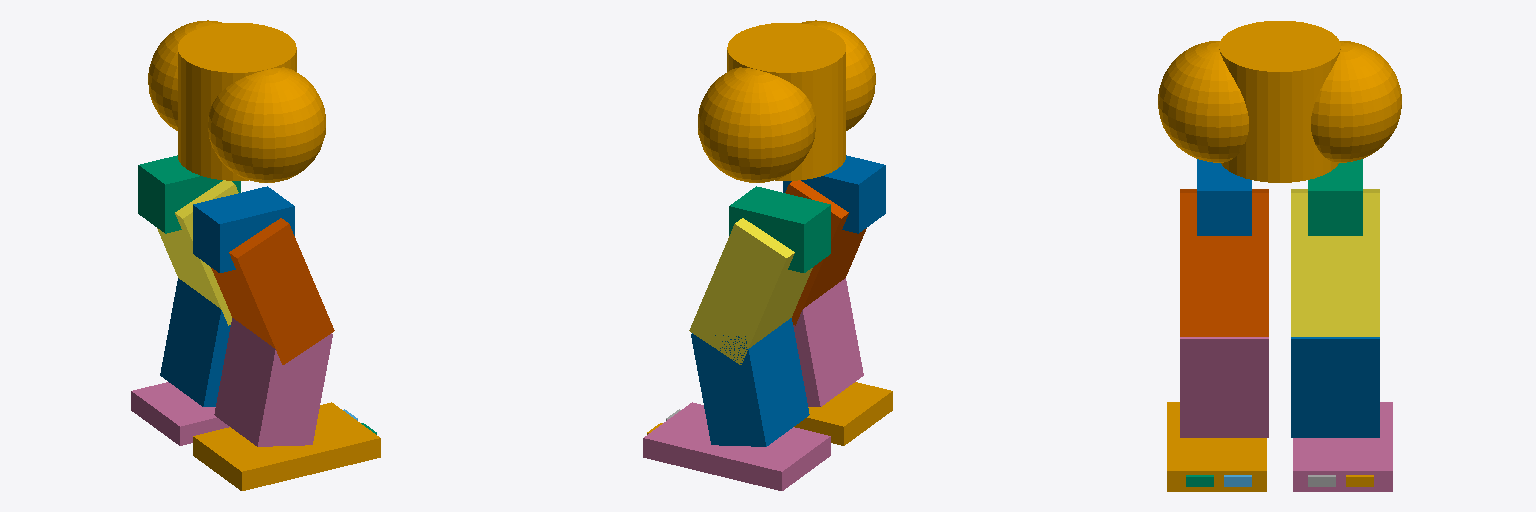
robot.urdf — [local-path]/Documents/Robotics-team-design/Meshes/Nao.urdf:
<?xml version="1.0"?>
<robot name="[local-path]/Documents/Robotics-team-design/Meshes/Nao.urdf" xmlns:xacro="http://ros.org/wiki/xacro">
  <link name="base_link">
    <visual>
      <origin xyz="0 0 0.02" rpy="0 0 0"/>
      <geometry>
        <cylinder radius="0.055" length="0.11"/>
      </geometry>
    </visual>
    <collision>
      <origin xyz="0 0 0.02" rpy="0 0 0"/>
      <geometry>
        <cylinder radius="0.055" length="0.11"/>
      </geometry>
    </collision>
    <visual>
      <origin xyz="0 0.055 0.02" rpy="0 0 0"/>
      <geometry>
        <sphere radius="0.055"/>
      </geometry>
    </visual>
    <collision>
      <origin xyz="0 0.055 0.02" rpy="0 0 0"/>
      <geometry>
        <sphere radius="0.055"/>
      </geometry>
    </collision>
    <visual>
      <origin xyz="0 -0.055 0.02" rpy="0 0 0"/>
      <geometry>
        <sphere radius="0.055"/>
      </geometry>
    </visual>
    <collision>
      <origin xyz="0 -0.055 0.02" rpy="0 0 0"/>
      <geometry>
        <sphere radius="0.055"/>
      </geometry>
    </collision>
  </link>
  <joint name="LHipYawPitch" type="revolute">
    <parent link="base_link"/>
    <child link="LHip"/>
    <axis xyz="0 0.707107 -0.707107"/>
    <limit effort="14.8" lower="-1.14529" upper="0.740718" velocity="4.16174"/>
    <origin xyz="0 0.05 -0.085" rpy="0 0 0"/>
  </joint>
  <link name="LHip">
  </link>
  <joint name="LHipRoll" type="revolute">
    <parent link="LHip"/>
    <child link="solid"/>
    <axis xyz="1 0 0"/>
    <limit effort="14.8" lower="-0.379435" upper="0.79046" velocity="4.16174"/>
    <origin xyz="0 0 0" rpy="0 0 0"/>
  </joint>
  <link name="solid">
    <visual>
      <origin xyz="-0.022 0 0" rpy="0 0 0"/>
      <geometry>
        <box size="0.08 0.05 0.05"/>
      </geometry>
    </visual>
    <collision>
      <origin xyz="-0.022 0 0" rpy="0 0 0"/>
      <geometry>
        <box size="0.08 0.05 0.05"/>
      </geometry>
    </collision>
  </link>
  <joint name="LHipPitch" type="revolute">
    <parent link="solid"/>
    <child link="solid_0"/>
    <axis xyz="0 1 0"/>
    <limit effort="9.8" lower="-1.77378" upper="0.48398" velocity="6.40239"/>
    <origin xyz="0 0 0" rpy="0 0 0"/>
  </joint>
  <link name="solid_0">
    <visual>
      <origin xyz="0 0 -0.055" rpy="0 -0.383185 0"/>
      <geometry>
        <box size="0.06 0.08 0.13"/>
      </geometry>
    </visual>
    <collision>
      <origin xyz="0 0 -0.055" rpy="0 -0.383185 0"/>
      <geometry>
        <box size="0.06 0.08 0.13"/>
      </geometry>
    </collision>
  </link>
  <joint name="LKneePitch" type="revolute">
    <parent link="solid_0"/>
    <child link="solid_1"/>
    <axis xyz="0 1 0"/>
    <limit effort="9.8" lower="-0.0923279" upper="2.11255" velocity="6.40239"/>
    <origin xyz="0 0 -0.1" rpy="0 0 0"/>
  </joint>
  <link name="solid_1">
    <visual>
      <origin xyz="0.01 0 -0.055" rpy="0 0.2 0"/>
      <geometry>
        <box size="0.06 0.08 0.11"/>
      </geometry>
    </visual>
    <collision>
      <origin xyz="0.01 0 -0.055" rpy="0 0.2 0"/>
      <geometry>
        <box size="0.06 0.08 0.11"/>
      </geometry>
    </collision>
  </link>
  <joint name="LAnklePitch" type="revolute">
    <parent link="solid_1"/>
    <child link="solid_2"/>
    <axis xyz="0 1 0"/>
    <limit effort="9.8" lower="-1.18944" upper="0.922581" velocity="6.40239"/>
    <origin xyz="0 0 -0.1029" rpy="0 0 0"/>
  </joint>
  <link name="solid_2">
  </link>
  <joint name="LAnkleRoll" type="revolute">
    <parent link="solid_2"/>
    <child link="solid_3"/>
    <axis xyz="1 0 0"/>
    <limit effort="14.8" lower="-0.39788" upper="0.769001" velocity="4.16174"/>
    <origin xyz="0 0 0" rpy="0.000001 0 0"/>
  </joint>
  <link name="solid_3">
    <visual>
      <origin xyz="0.02 0.007 -0.025" rpy="0 0 0"/>
      <geometry>
        <box size="0.148 0.09 0.02"/>
      </geometry>
    </visual>
    <collision>
      <origin xyz="0.02 0.007 -0.025" rpy="0 0 0"/>
      <geometry>
        <box size="0.148 0.09 0.02"/>
      </geometry>
    </collision>
  </link>
  <link name="LFoot/Bumper/Right">
    <visual>
      <origin xyz="0.0075 0 0" rpy="0 0 0"/>
      <geometry>
        <box size="0.005 0.025 0.01"/>
      </geometry>
    </visual>
    <collision>
      <origin xyz="0.0075 0 0" rpy="0 0 0"/>
      <geometry>
        <box size="0.005 0.025 0.01"/>
      </geometry>
    </collision>
  </link>
  <joint name="solid_3_LFoot/Bumper/Right_joint" type="fixed">
    <parent link="solid_3"/>
    <child link="LFoot/Bumper/Right"/>
    <origin xyz="0.09 -0.012 -0.023" rpy="0 0 0"/>
  </joint>
  <link name="LFoot/Bumper/Left">
    <visual>
      <origin xyz="0.0075 0 0" rpy="0 0 0"/>
      <geometry>
        <box size="0.005 0.025 0.01"/>
      </geometry>
    </visual>
    <collision>
      <origin xyz="0.0075 0 0" rpy="0 0 0"/>
      <geometry>
        <box size="0.005 0.025 0.01"/>
      </geometry>
    </collision>
  </link>
  <joint name="solid_3_LFoot/Bumper/Left_joint" type="fixed">
    <parent link="solid_3"/>
    <child link="LFoot/Bumper/Left"/>
    <origin xyz="0.09 0.022 -0.023" rpy="0 0 0"/>
  </joint>
  <link name="LFoot/Led">
  </link>
  <joint name="solid_3_LFoot/Led_joint" type="fixed">
    <parent link="solid_3"/>
    <child link="LFoot/Led"/>
    <origin xyz="0 0 0" rpy="0 0 0"/>
  </joint>
  <link name="LFsr">
  </link>
  <joint name="solid_3_LFsr_joint" type="fixed">
    <parent link="solid_3"/>
    <child link="LFsr"/>
    <origin xyz="0.020001 0.006999 -0.040755" rpy="0 -0.000004 -3.141585"/>
  </joint>
  <joint name="RHipYawPitch" type="revolute">
    <parent link="base_link"/>
    <child link="RHip"/>
    <axis xyz="0 0.707107 0.707107"/>
    <limit effort="14.8" lower="-1.14529" upper="0.740718" velocity="4.16174"/>
    <origin xyz="0 -0.05 -0.085" rpy="0 0 0"/>
  </joint>
  <link name="RHip">
  </link>
  <joint name="RHipRoll" type="revolute">
    <parent link="RHip"/>
    <child link="solid_4"/>
    <axis xyz="1 0 0"/>
    <limit effort="14.8" lower="-0.738274" upper="0.449597" velocity="4.16174"/>
    <origin xyz="0 0 0" rpy="0 0 0"/>
  </joint>
  <link name="solid_4">
    <visual>
      <origin xyz="-0.022 0 0" rpy="0 0 0"/>
      <geometry>
        <box size="0.08 0.05 0.05"/>
      </geometry>
    </visual>
    <collision>
      <origin xyz="-0.022 0 0" rpy="0 0 0"/>
      <geometry>
        <box size="0.08 0.05 0.05"/>
      </geometry>
    </collision>
  </link>
  <joint name="RHipPitch" type="revolute">
    <parent link="solid_4"/>
    <child link="solid_5"/>
    <axis xyz="0 1 0"/>
    <limit effort="9.8" lower="-1.77378" upper="0.48398" velocity="6.40239"/>
    <origin xyz="0 0 0" rpy="0 0 0"/>
  </joint>
  <link name="solid_5">
    <visual>
      <origin xyz="0 0 -0.055" rpy="0 -0.383185 0"/>
      <geometry>
        <box size="0.06 0.08 0.13"/>
      </geometry>
    </visual>
    <collision>
      <origin xyz="0 0 -0.055" rpy="0 -0.383185 0"/>
      <geometry>
        <box size="0.06 0.08 0.13"/>
      </geometry>
    </collision>
  </link>
  <joint name="RKneePitch" type="revolute">
    <parent link="solid_5"/>
    <child link="solid_6"/>
    <axis xyz="0 1 0"/>
    <limit effort="9.8" lower="-0.0923279" upper="2.11255" velocity="6.40239"/>
    <origin xyz="0 0 -0.1" rpy="0 0 0"/>
  </joint>
  <link name="solid_6">
    <visual>
      <origin xyz="0.01 0 -0.055" rpy="0 0.2 0"/>
      <geometry>
        <box size="0.06 0.08 0.11"/>
      </geometry>
    </visual>
    <collision>
      <origin xyz="0.01 0 -0.055" rpy="0 0.2 0"/>
      <geometry>
        <box size="0.06 0.08 0.11"/>
      </geometry>
    </collision>
  </link>
  <joint name="RAnklePitch" type="revolute">
    <parent link="solid_6"/>
    <child link="solid_7"/>
    <axis xyz="0 1 0"/>
    <limit effort="9.8" lower="-1.1863" upper="0.932006" velocity="6.40239"/>
    <origin xyz="0 0 -0.1029" rpy="0 0 0"/>
  </joint>
  <link name="solid_7">
  </link>
  <joint name="RAnkleRoll" type="revolute">
    <parent link="solid_7"/>
    <child link="solid_8"/>
    <axis xyz="1 0 0"/>
    <limit effort="14.8" lower="-0.768992" upper="0.397935" velocity="4.16174"/>
    <origin xyz="0 0 0" rpy="0 0 0"/>
  </joint>
  <link name="solid_8">
    <visual>
      <origin xyz="0.02 -0.007 -0.025" rpy="0 0 0"/>
      <geometry>
        <box size="0.148 0.09 0.02"/>
      </geometry>
    </visual>
    <collision>
      <origin xyz="0.02 -0.007 -0.025" rpy="0 0 0"/>
      <geometry>
        <box size="0.148 0.09 0.02"/>
      </geometry>
    </collision>
  </link>
  <link name="RFoot/Bumper/Left">
    <visual>
      <origin xyz="0.0075 0 0" rpy="0 0 0"/>
      <geometry>
        <box size="0.005 0.025 0.01"/>
      </geometry>
    </visual>
    <collision>
      <origin xyz="0.0075 0 0" rpy="0 0 0"/>
      <geometry>
        <box size="0.005 0.025 0.01"/>
      </geometry>
    </collision>
  </link>
  <joint name="solid_8_RFoot/Bumper/Left_joint" type="fixed">
    <parent link="solid_8"/>
    <child link="RFoot/Bumper/Left"/>
    <origin xyz="0.09 0.012 -0.023" rpy="0 0 0"/>
  </joint>
  <link name="RFoot/Bumper/Right">
    <visual>
      <origin xyz="0.0075 0 0" rpy="0 0 0"/>
      <geometry>
        <box size="0.005 0.025 0.01"/>
      </geometry>
    </visual>
    <collision>
      <origin xyz="0.0075 0 0" rpy="0 0 0"/>
      <geometry>
        <box size="0.005 0.025 0.01"/>
      </geometry>
    </collision>
  </link>
  <joint name="solid_8_RFoot/Bumper/Right_joint" type="fixed">
    <parent link="solid_8"/>
    <child link="RFoot/Bumper/Right"/>
    <origin xyz="0.09 -0.022 -0.023" rpy="0 0 0"/>
  </joint>
  <link name="RFoot/Led">
  </link>
  <joint name="solid_8_RFoot/Led_joint" type="fixed">
    <parent link="solid_8"/>
    <child link="RFoot/Led"/>
    <origin xyz="0 0 0" rpy="0 0 0"/>
  </joint>
  <link name="RFsr">
  </link>
  <joint name="solid_8_RFsr_joint" type="fixed">
    <parent link="solid_8"/>
    <child link="RFsr"/>
    <origin xyz="0.020001 -0.007001 -0.040762" rpy="0 -0.000004 -3.141585"/>
  </joint>
  <link name="Sonar/Left">
  </link>
  <joint name="base_link_Sonar/Left_joint" type="fixed">
    <parent link="base_link"/>
    <child link="Sonar/Left"/>
    <origin xyz="0.0477 0.0416 0.0509" rpy="0.112752 0.23678 0.449726"/>
  </joint>
  <link name="Sonar/Right">
  </link>
  <joint name="base_link_Sonar/Right_joint" type="fixed">
    <parent link="base_link"/>
    <child link="Sonar/Right"/>
    <origin xyz="0.0477 -0.0416 0.0509" rpy="-0.112752 0.23678 -0.449726"/>
  </joint>
  <link name="inertial unit">
  </link>
  <joint name="base_link_inertial unit_joint" type="fixed">
    <parent link="base_link"/>
    <child link="inertial unit"/>
    <origin xyz="-0.008 0.006 0.029" rpy="1.5708 0 0"/>
  </joint>
  <link name="gyro">
  </link>
  <joint name="base_link_gyro_joint" type="fixed">
    <parent link="base_link"/>
    <child link="gyro"/>
    <origin xyz="-0.008 0.006 0.029" rpy="0 0 0"/>
  </joint>
  <link name="accelerometer">
  </link>
  <joint name="base_link_accelerometer_joint" type="fixed">
    <parent link="base_link"/>
    <child link="accelerometer"/>
    <origin xyz="-0.008 0.00606 0.027" rpy="3.14159 0 0"/>
  </joint>
  <link name="super_emitter">
  </link>
  <joint name="base_link_super_emitter_joint" type="fixed">
    <parent link="base_link"/>
    <child link="super_emitter"/>
    <origin xyz="0 0 0" rpy="0 0 0"/>
  </joint>
  <link name="emitter">
  </link>
  <joint name="base_link_emitter_joint" type="fixed">
    <parent link="base_link"/>
    <child link="emitter"/>
    <origin xyz="0 0 0" rpy="0 0 0"/>
  </joint>
  <link name="receiver">
  </link>
  <joint name="base_link_receiver_joint" type="fixed">
    <parent link="base_link"/>
    <child link="receiver"/>
    <origin xyz="0 0 0" rpy="0 0 0"/>
  </joint>
  <link name="gps">
  </link>
  <joint name="base_link_gps_joint" type="fixed">
    <parent link="base_link"/>
    <child link="gps"/>
    <origin xyz="0 0 0" rpy="0 0 0"/>
  </joint>
  <link name="ChestBoard/Led">
  </link>
  <joint name="base_link_ChestBoard/Led_joint" type="fixed">
    <parent link="base_link"/>
    <child link="ChestBoard/Led"/>
    <origin xyz="0.053 0 0.058" rpy="0 0 0"/>
  </joint>
</robot>

--- What the picture shows (computed from the rendered views, not written in the file) ---
3 views of the same robot in one strip: view 1: azimuth 30°, elevation 25°; view 2: azimuth 150°, elevation 25°; view 3: azimuth 270°, elevation 25° (orthographic).
Robot: [local-path]/Documents/Robotics-team-design/Meshes/Nao.urdf — 31 links, 30 joints (12 revolute, 18 fixed); root link base_link; default pose: all joints at 0.
Links seen in each view (by area): view 1: base_link, solid_6, solid_5, solid_8, solid_1, solid_4, solid, solid_3, solid_0; view 2: base_link, solid_1, solid_0, solid_3, solid_6, solid, solid_4, solid_8, solid_5; view 3: base_link, solid_0, solid_5, solid_1, solid_6, solid_3, solid_8, solid, solid_4.
Boxes of the visible links, left/top/right/bottom form: base_link: left=148, top=20, right=325, bottom=182; solid_6: left=214, top=318, right=332, bottom=446; solid_5: left=211, top=218, right=334, bottom=364; solid_8: left=193, top=402, right=380, bottom=490; solid_1: left=160, top=278, right=230, bottom=406; solid_4: left=193, top=186, right=294, bottom=272; solid: left=138, top=155, right=240, bottom=233; solid_3: left=131, top=382, right=229, bottom=445; solid_0: left=157, top=180, right=238, bottom=325; base_link: left=698, top=20, right=875, bottom=182; solid_1: left=691, top=318, right=809, bottom=446; solid_0: left=689, top=218, right=812, bottom=364; solid_3: left=643, top=402, right=830, bottom=490; solid_6: left=793, top=278, right=863, bottom=406; solid: left=729, top=186, right=830, bottom=272; solid_4: left=783, top=155, right=885, bottom=233; solid_8: left=794, top=382, right=892, bottom=445; solid_5: left=785, top=180, right=866, bottom=325; base_link: left=1158, top=21, right=1401, bottom=182; solid_0: left=1291, top=189, right=1379, bottom=336; solid_5: left=1180, top=189, right=1268, bottom=336; solid_1: left=1291, top=337, right=1379, bottom=437; solid_6: left=1180, top=337, right=1268, bottom=437; solid_3: left=1293, top=402, right=1392, bottom=491; solid_8: left=1167, top=402, right=1266, bottom=491; solid: left=1308, top=159, right=1362, bottom=235; solid_4: left=1197, top=159, right=1251, bottom=235.
Bounding box of the posed robot: 0.162 × 0.22 × 0.3979 m (x, y, z).
Geometry: primitives only (box / cylinder / sphere), no mesh files.
